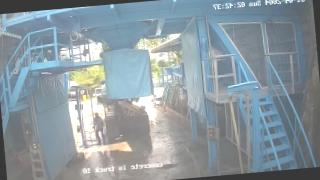cement_mixer_truck: (96, 80, 149, 137)
